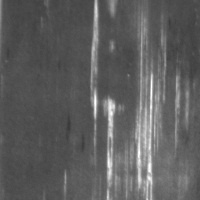scratches: (133, 66, 170, 199), (98, 94, 129, 199), (86, 0, 106, 122)
